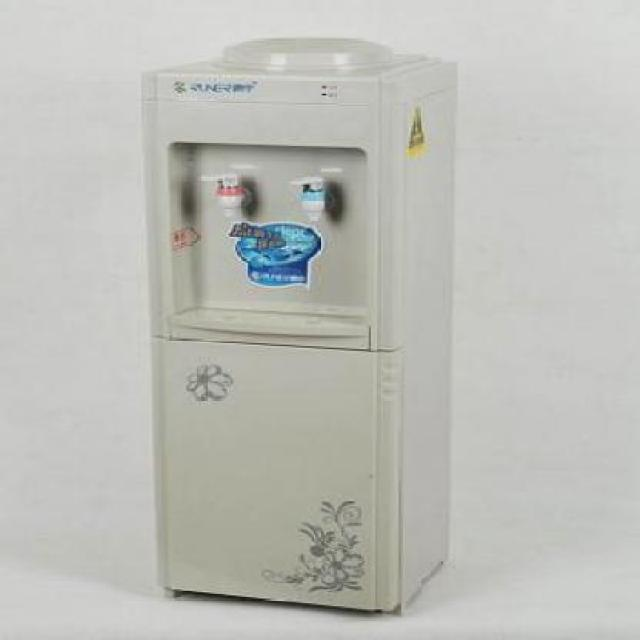cooler: (138, 29, 460, 617)
